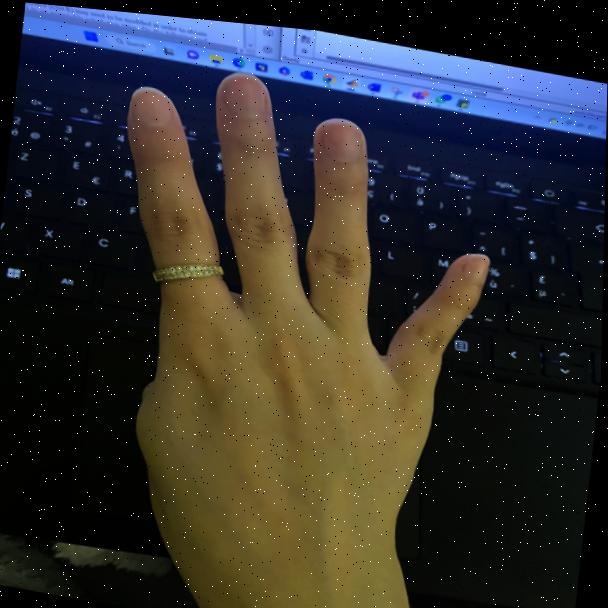four: (74, 42, 520, 582)
